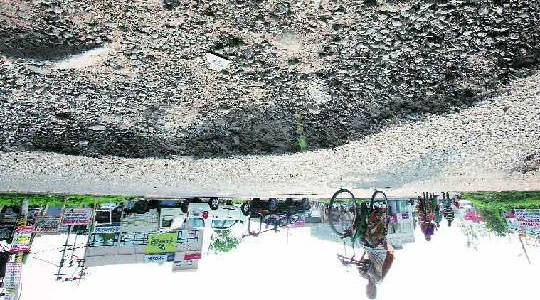pothole: (0, 0, 540, 162)
